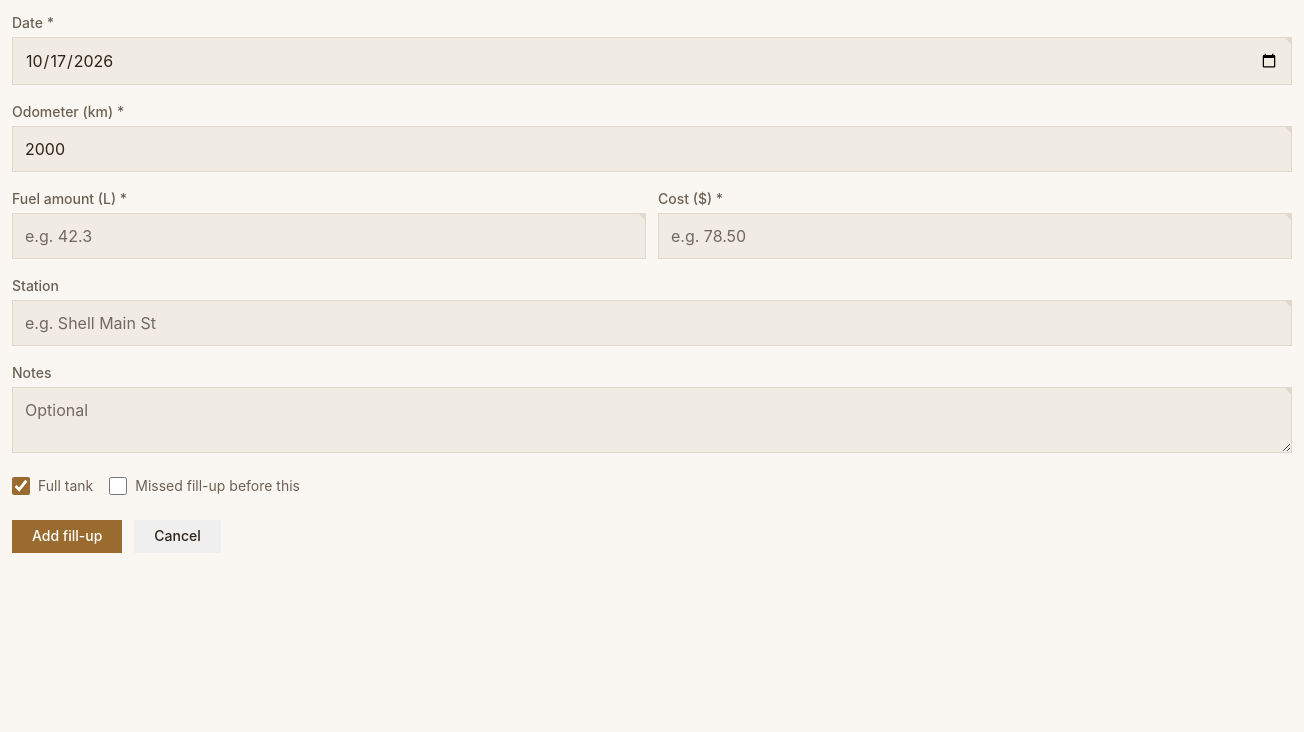
Scenario: FillupForm loaded history helpers › uses currently loaded recent entries without requesting continuation
Step 1. Replace the text in the field labelled "Odometer (km) *" with "3000" → (652, 149), box [12, 126, 1292, 172]
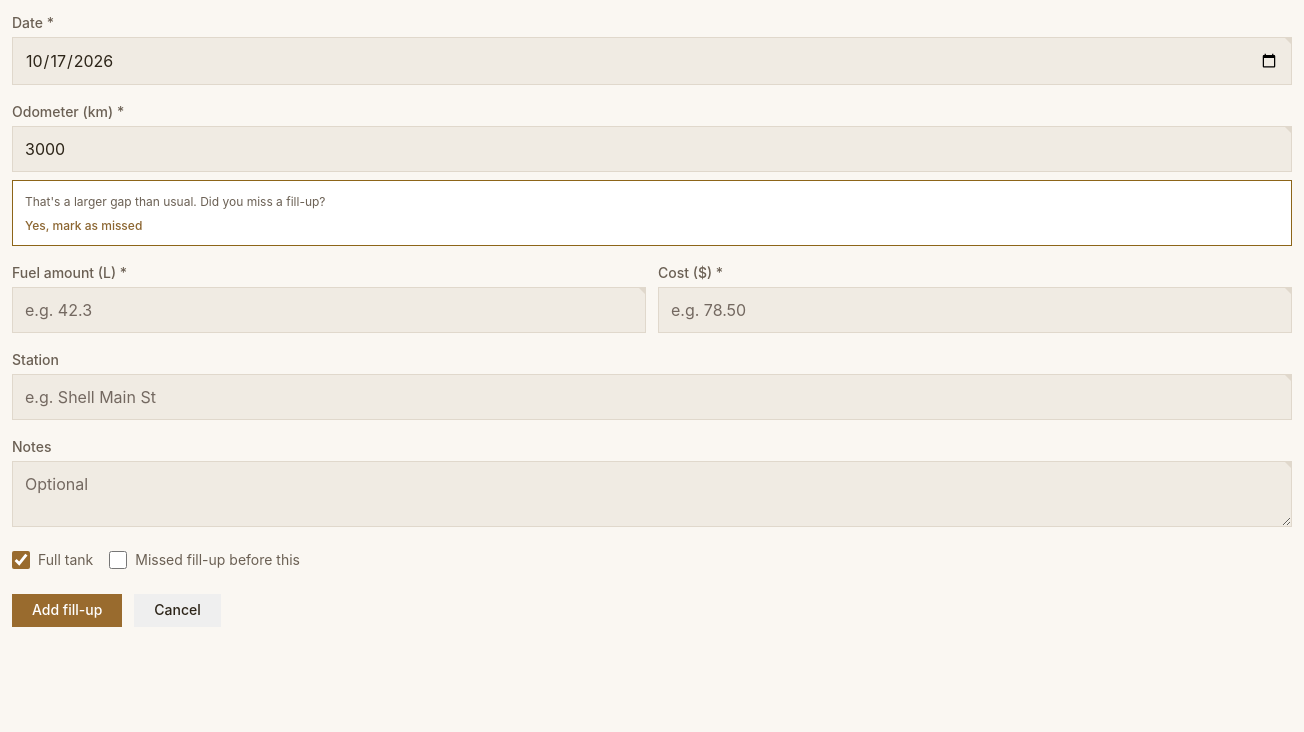
Now the text "That's a larger gap than usual. Did you miss a fill-up?" is shown, box [25, 194, 326, 209]
